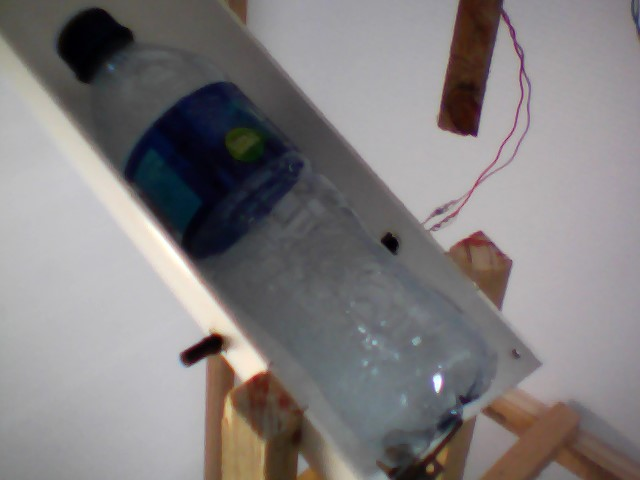plastico: (47, 2, 495, 480)
